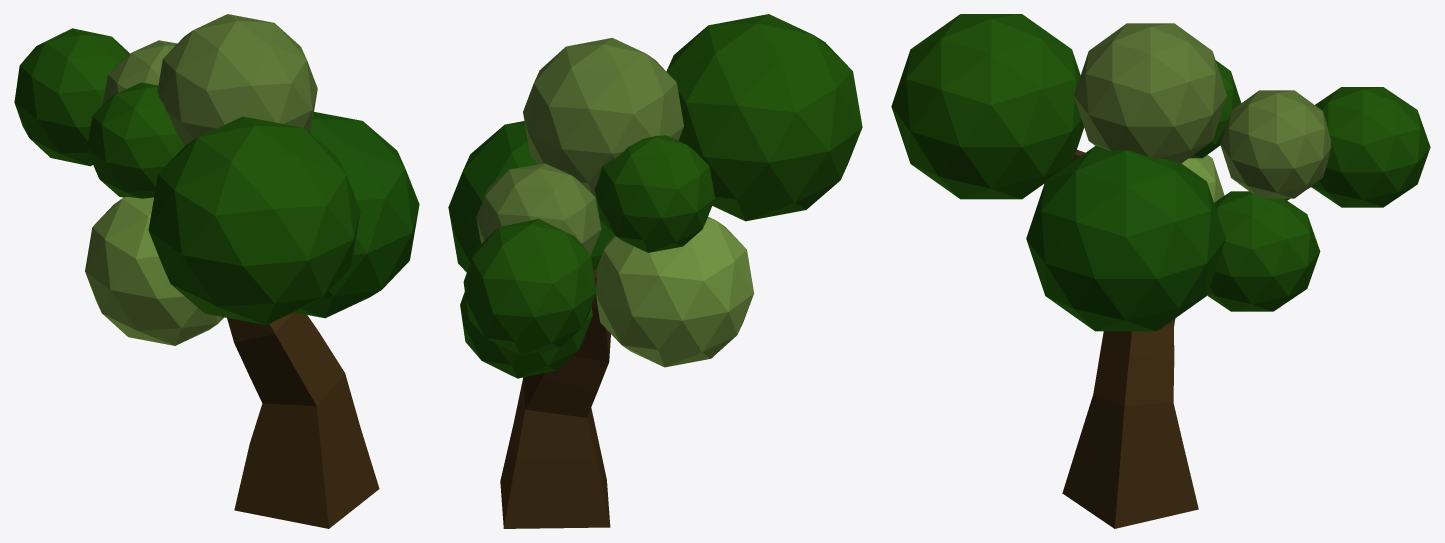
The model's file is tree1.fbx.
The picture shows the model from 3 angles, left to right: view 1: azimuth 30°, elevation 25°; view 2: azimuth 150°, elevation 25°; view 3: azimuth 270°, elevation 25°; orthographic projection. The views are drawn at different scales.
Parts seen in each view (by area): view 1: Icosphere.003, Cube, Icosphere.002, Icosphere.007, Icosphere.005, Icosphere, Icosphere.004, Icosphere.001; view 2: Icosphere.003, Icosphere.005, Cube, Icosphere.002, Icosphere, Icosphere.004, Icosphere.001, Icosphere.007, Icosphere.006; view 3: Icosphere.003, Icosphere.007, Cube, Icosphere.002, Icosphere, Icosphere.006, Icosphere.001, Icosphere.004, Icosphere.005.
Boxes of the visible parts, bbox=[...] form: Icosphere.003: bbox=[148, 116, 360, 325]; Cube: bbox=[227, 312, 379, 528]; Icosphere.002: bbox=[157, 14, 317, 145]; Icosphere.007: bbox=[294, 112, 419, 318]; Icosphere.005: bbox=[85, 197, 223, 345]; Icosphere: bbox=[14, 28, 129, 166]; Icosphere.004: bbox=[87, 82, 184, 198]; Icosphere.001: bbox=[102, 40, 177, 105]; Icosphere.003: bbox=[666, 14, 862, 221]; Icosphere.005: bbox=[596, 216, 754, 367]; Cube: bbox=[500, 269, 610, 528]; Icosphere.002: bbox=[523, 38, 683, 199]; Icosphere: bbox=[463, 219, 596, 355]; Icosphere.004: bbox=[594, 135, 714, 252]; Icosphere.001: bbox=[476, 163, 601, 254]; Icosphere.007: bbox=[448, 121, 614, 272]; Icosphere.006: bbox=[460, 291, 592, 378]; Icosphere.003: bbox=[891, 14, 1084, 199]; Icosphere.007: bbox=[1026, 146, 1225, 331]; Cube: bbox=[1062, 149, 1312, 528]; Icosphere.002: bbox=[1074, 23, 1226, 163]; Icosphere: bbox=[1311, 87, 1430, 207]; Icosphere.006: bbox=[1207, 191, 1320, 311]; Icosphere.001: bbox=[1220, 90, 1331, 198]; Icosphere.004: bbox=[1189, 60, 1241, 158]; Icosphere.005: bbox=[1182, 155, 1224, 202].
Bounding box in the file's own units: 432 × 648 × 704.
